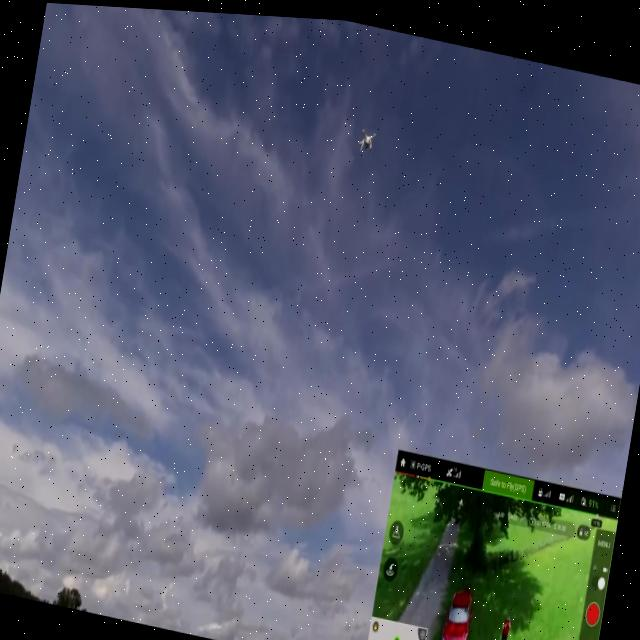drone: (356, 118, 378, 151)
